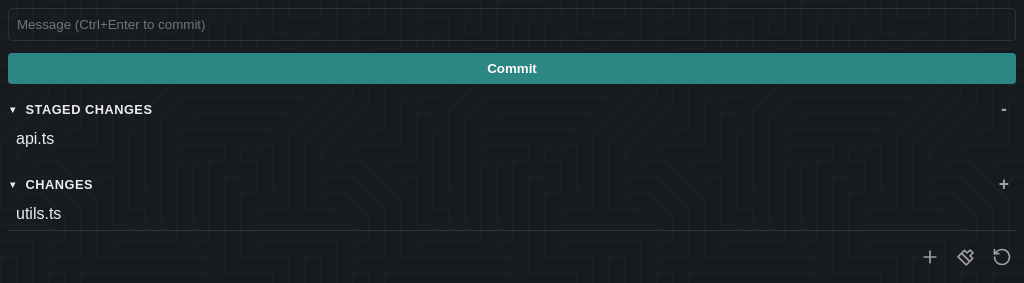
Test case: FilesBox Component Tests › Commit and Footer Actions › should create a commit with Ctrl+Enter keyboard shortcut
Step 1. Type "Commit via shortcut" into the field with placeholder "Message (Ctrl+Enter to commit)" → coordinates (512, 24), box [8,8,1016,41]
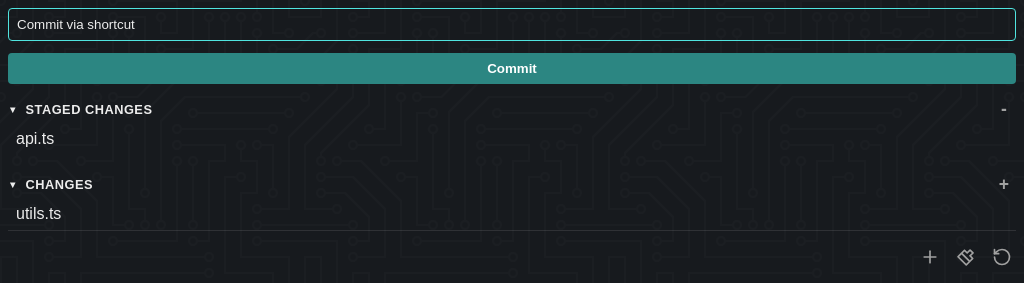
Step 2. Type keys "{Control>}[Enter]{/Control}"
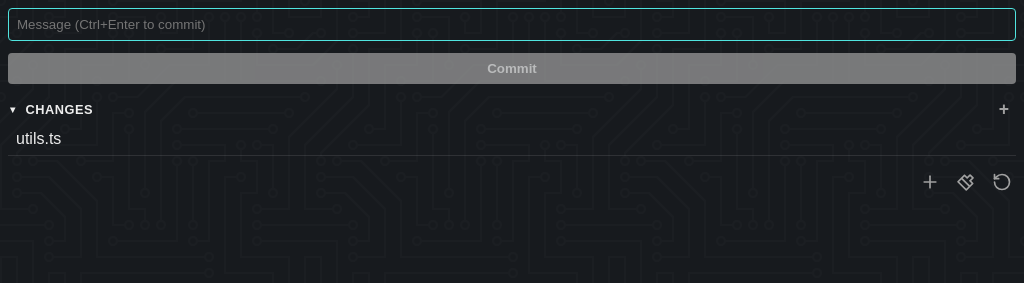
Expected: the button "Staged Changes" is gone
